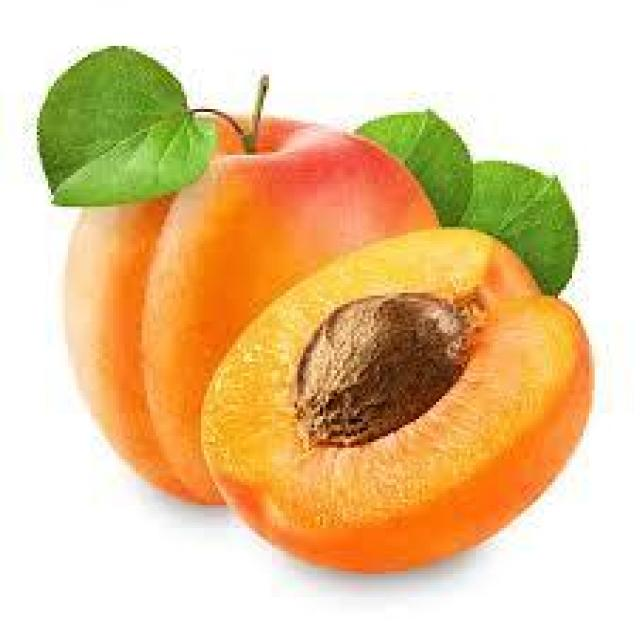cekirdek: (283, 283, 493, 459)
kayisi: (49, 104, 441, 515), (188, 221, 606, 585)
yaprak: (25, 33, 218, 212), (452, 153, 583, 300), (354, 98, 483, 233)
